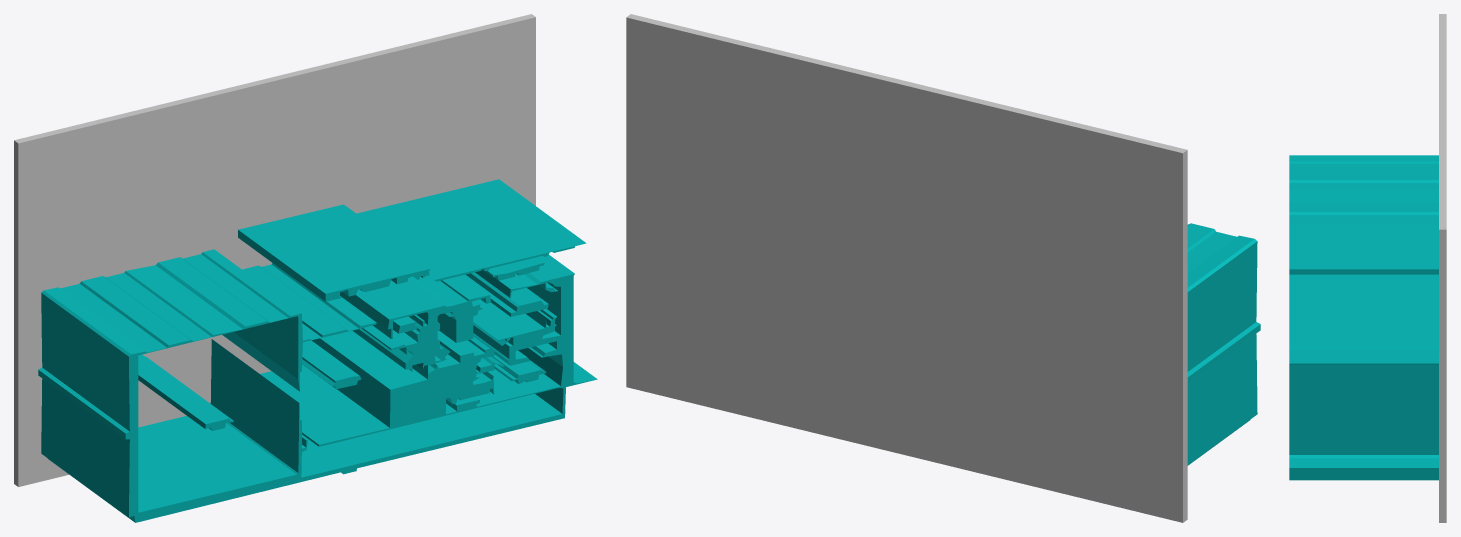
The picture shows the model from 3 angles, left to right: view 1: azimuth 30°, elevation 25°; view 2: azimuth 150°, elevation 25°; view 3: azimuth 270°, elevation 25°; orthographic projection. The views are drawn at different scales.
Parts seen in each view (by area): view 1: world; view 2: world; view 3: world.
Boxes of the visible parts, box(x1,y1,x2,y2) form: world: box(14, 14, 597, 522); world: box(626, 14, 1260, 522); world: box(1289, 14, 1446, 522).
Size of the model in its own units: 10.23 by 6.49 by 3.15.
